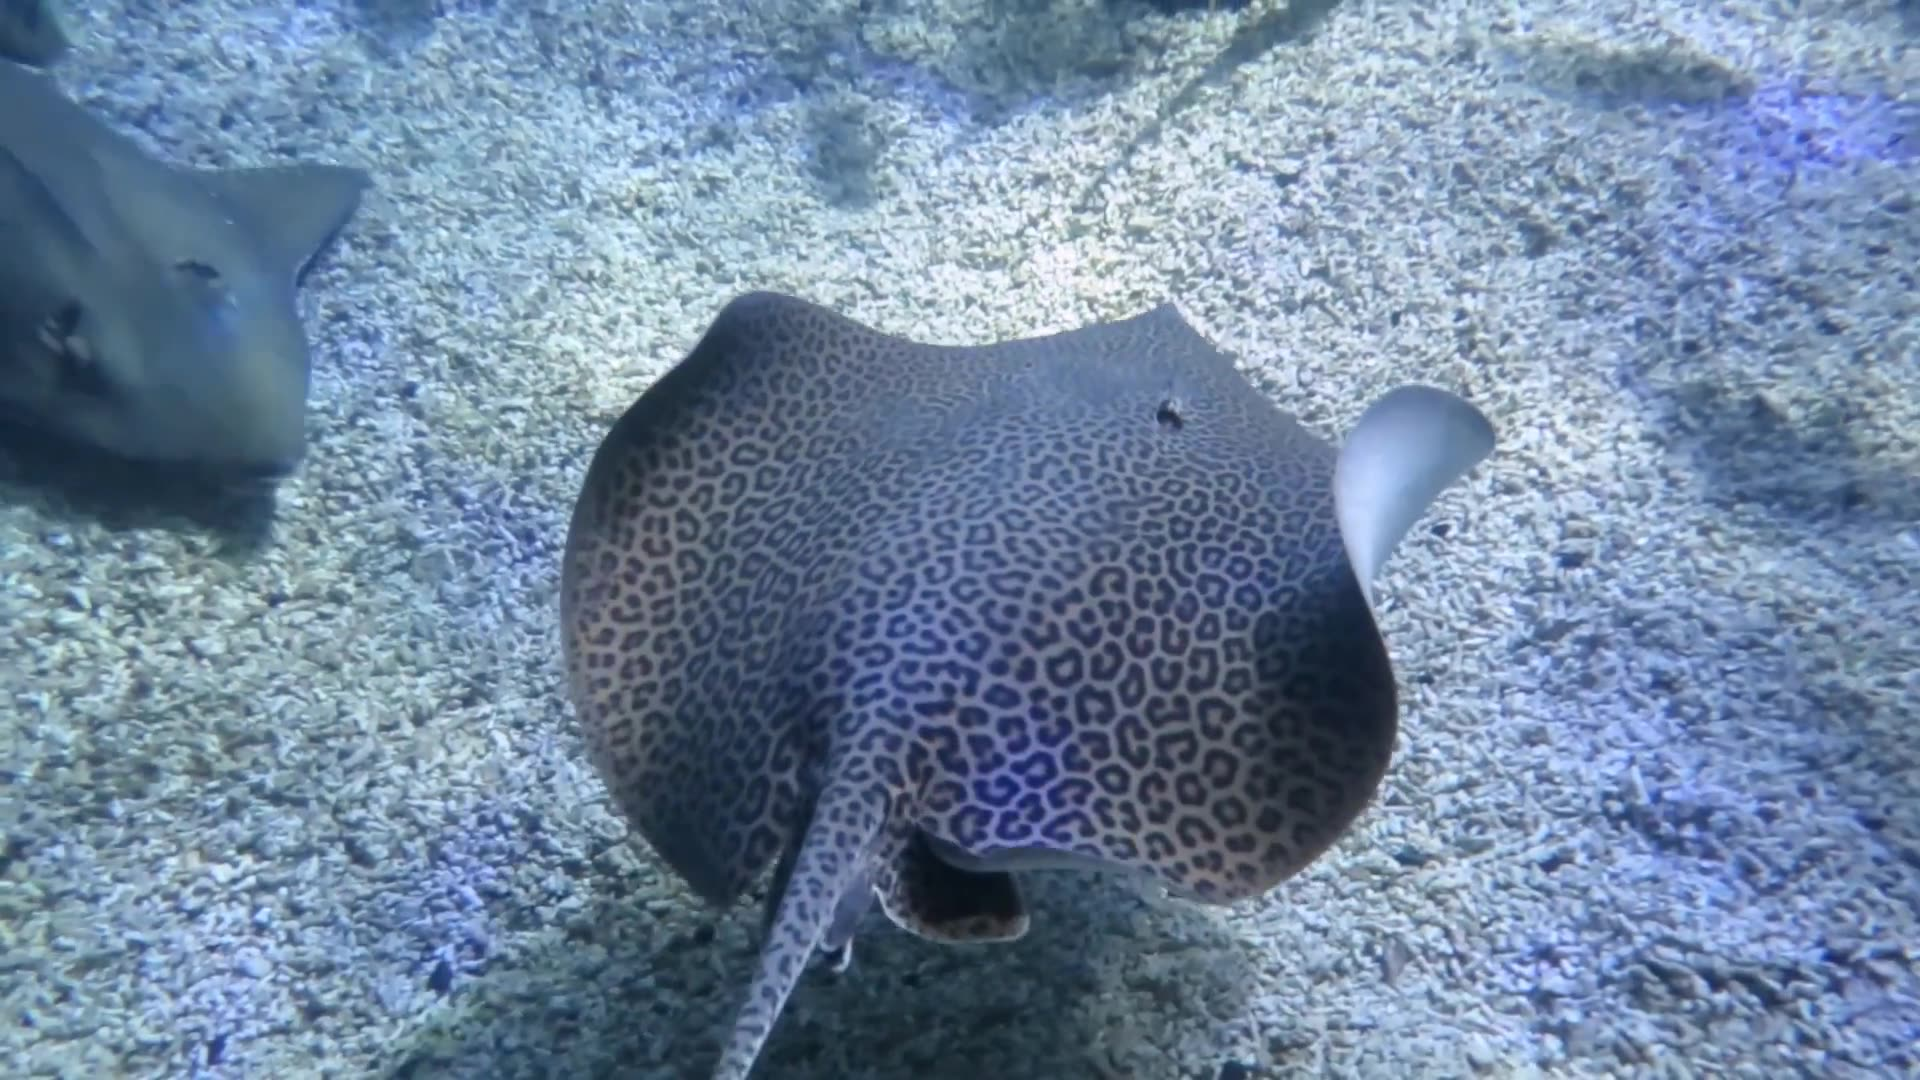Himantura uarnak: (555, 255, 1495, 1080)
